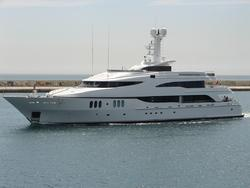yacht: (2, 23, 246, 124)
